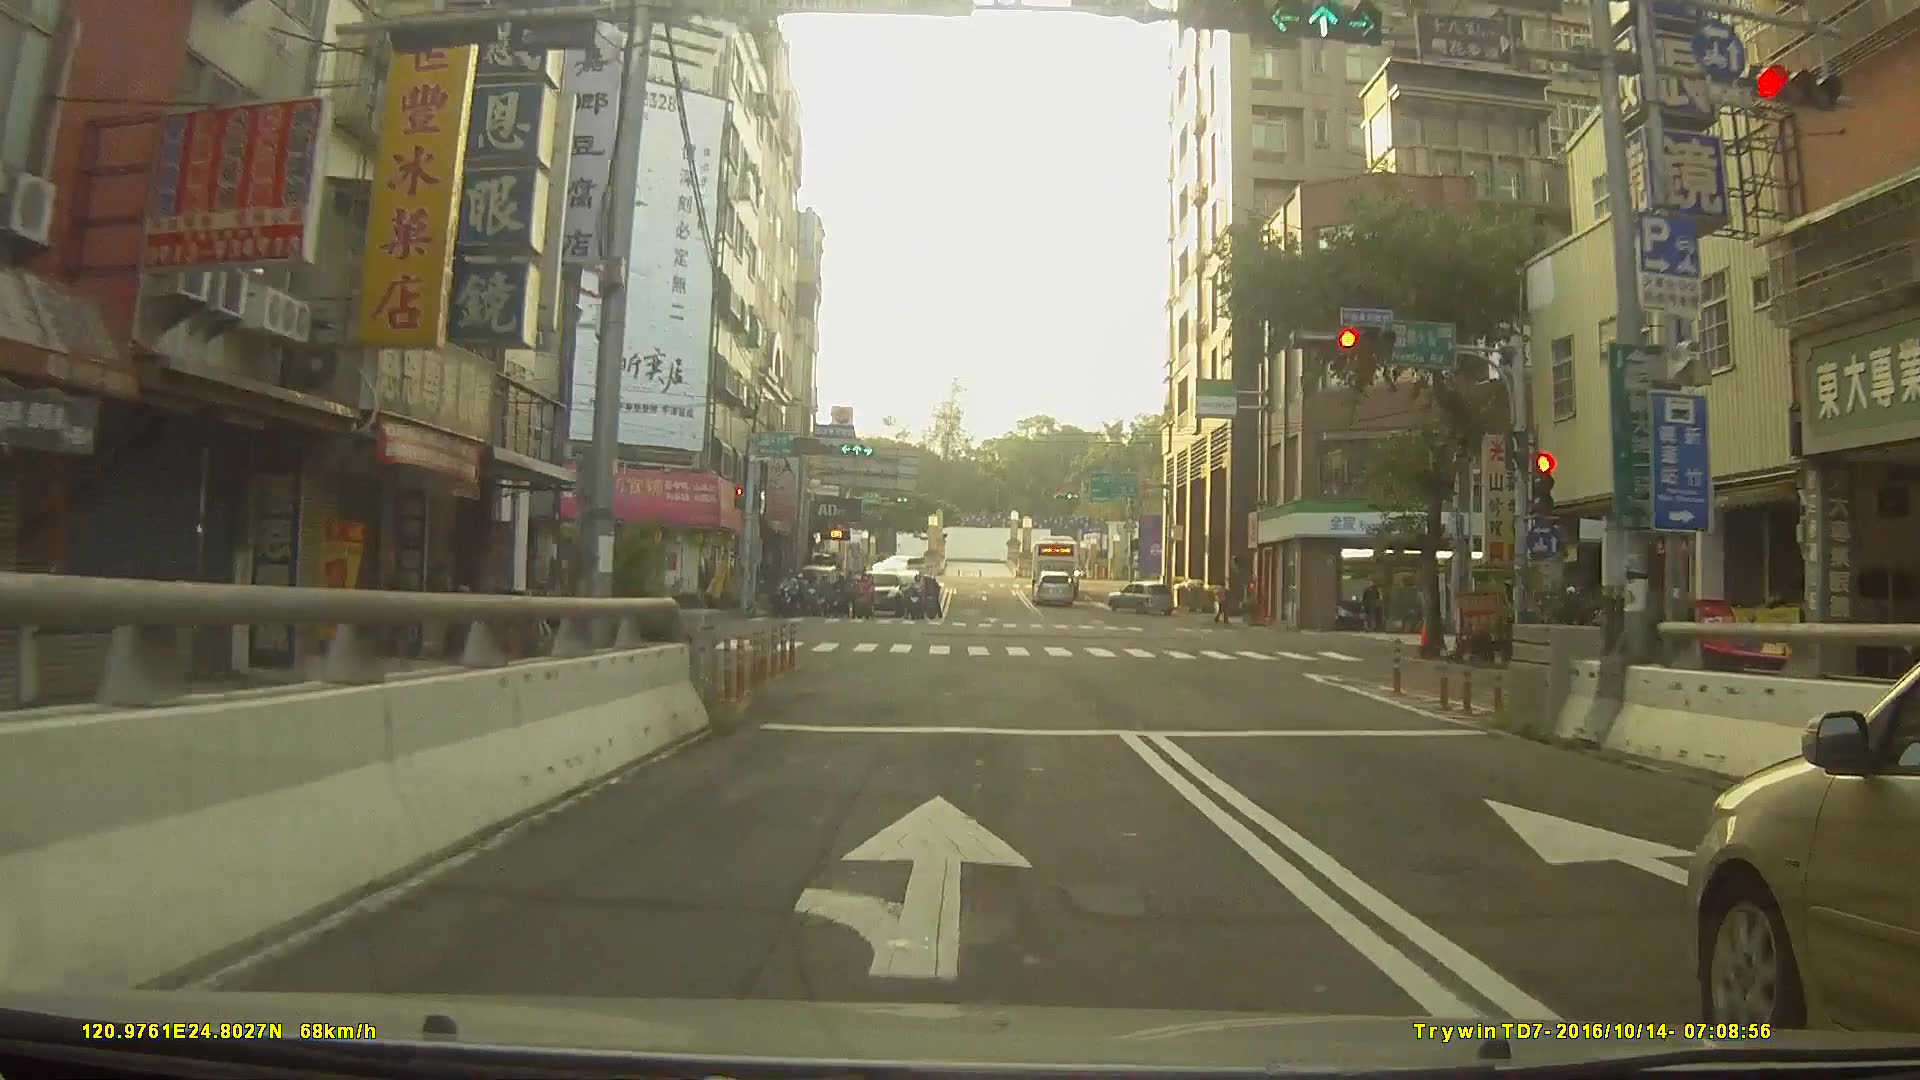pedestrian: (1359, 580, 1385, 634), (1213, 580, 1233, 627)
vehicle: (1688, 656, 1920, 1042), (1027, 535, 1084, 585), (854, 571, 906, 621), (1106, 579, 1177, 615), (866, 552, 928, 580), (1033, 569, 1078, 604)
